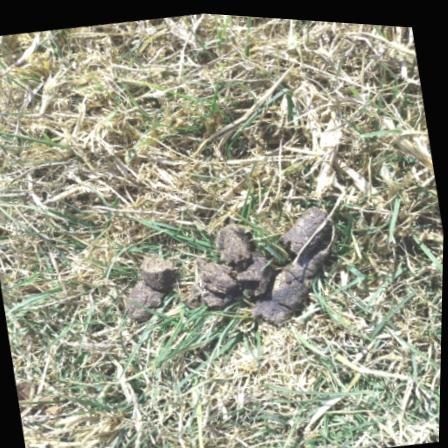dog-poop: (181, 179, 361, 332), (115, 241, 190, 324)
